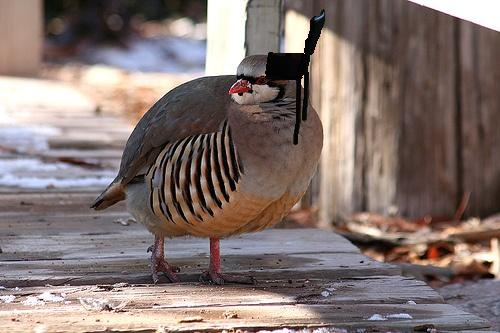tampered: (266, 10, 325, 145)
